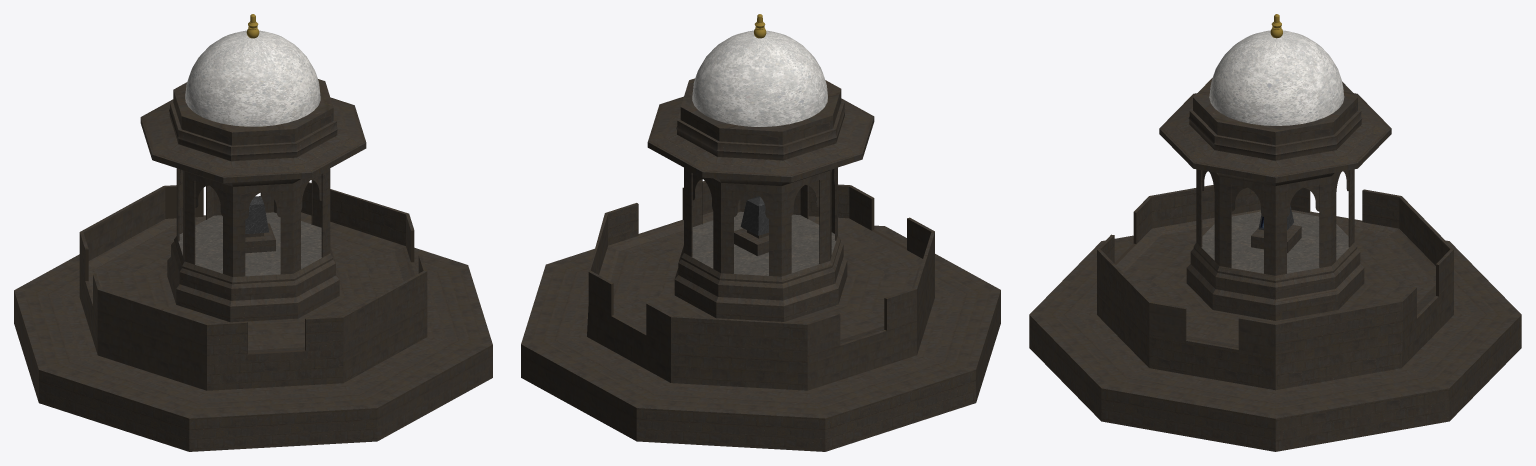
Rendered from chatrapati_shivaji_maharaj_samadhi.glb.
3 renders of one model, left to right at view 1: azimuth 30°, elevation 25°; view 2: azimuth 150°, elevation 25°; view 3: azimuth 270°, elevation 25°, orthographic.
Parts seen in each view (by area): view 1: Circle.006; view 2: Circle.006; view 3: Circle.006.
Part boxes in pixels (x1,y1,x2,y2): Circle.006: (14, 14, 492, 451); Circle.006: (521, 14, 1000, 451); Circle.006: (1029, 14, 1521, 451).
Bounding box in the file's own units: 10.33 × 7.72 × 10.33.
6 materials, 5 textured.
